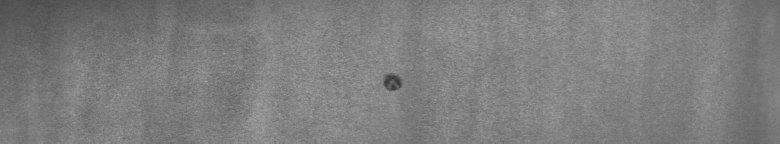fi: (380, 68, 404, 96)
